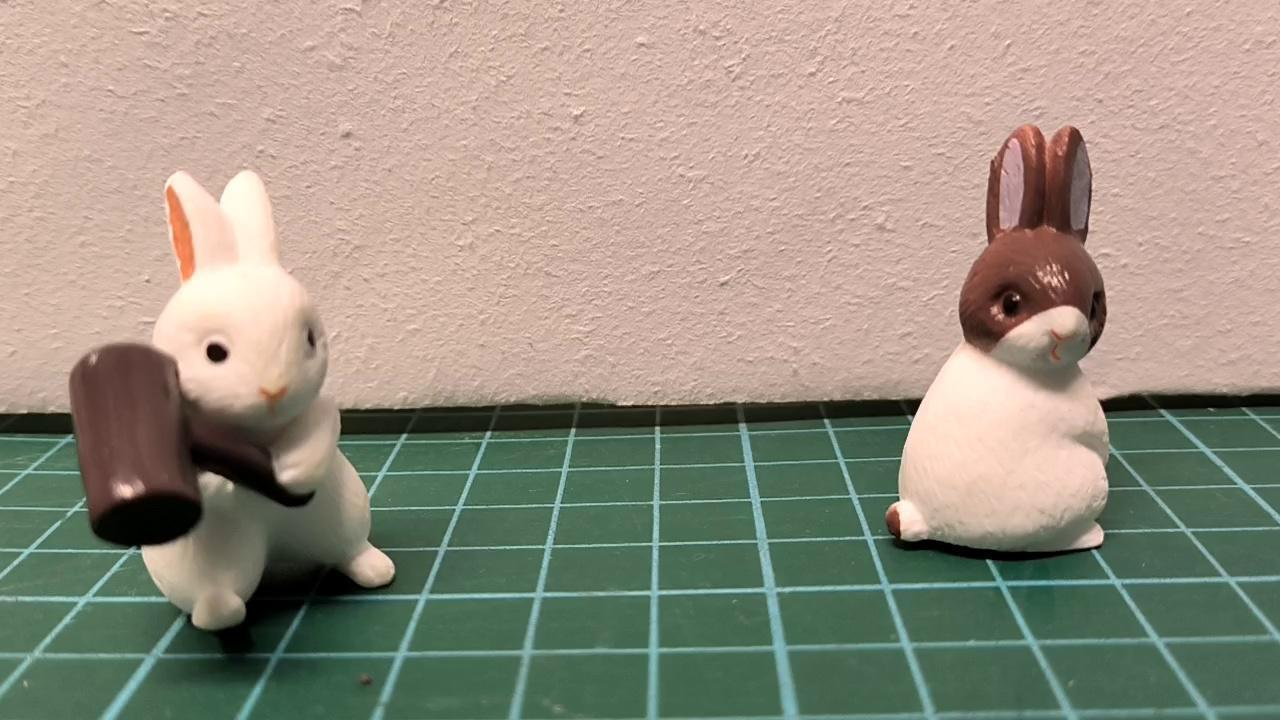pet: (137, 171, 395, 630), (886, 124, 1111, 557)
